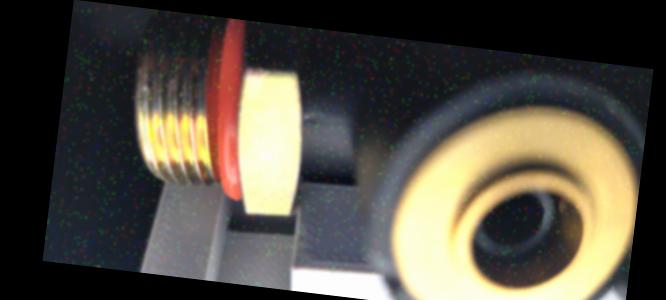bump: (376, 268, 409, 299)
joint line: (319, 117, 353, 131)
white mark: (302, 112, 315, 124)
